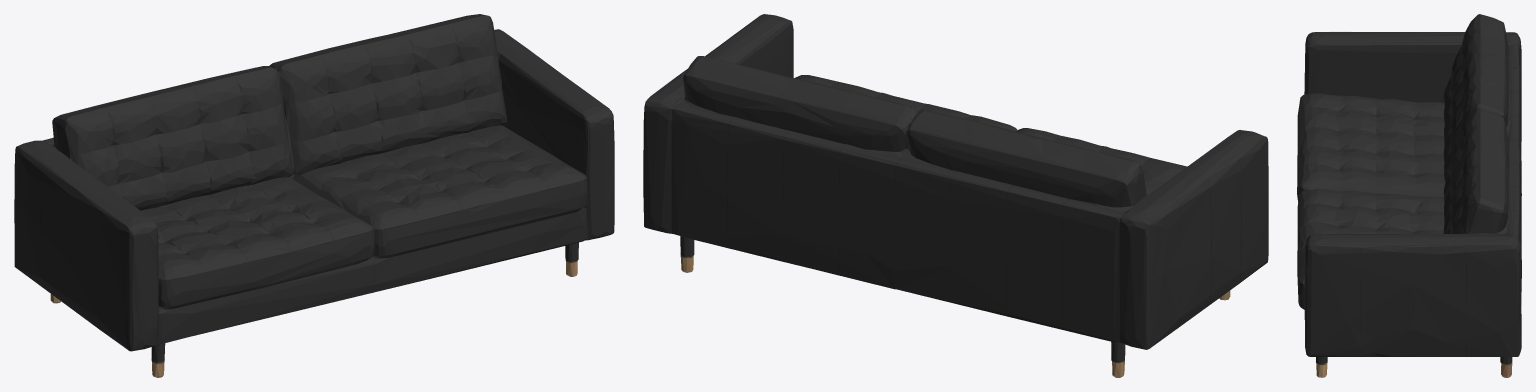
3 renders of one model, left to right at view 1: azimuth 30°, elevation 25°; view 2: azimuth 150°, elevation 25°; view 3: azimuth 270°, elevation 25°, orthographic. The views are drawn at different scales.
Visible parts, largest first — view 1: ProcessedGeometry; view 2: ProcessedGeometry; view 3: ProcessedGeometry.
Boxes of the visible parts, x1,y1,x2,y2 form: ProcessedGeometry: (14, 14, 614, 377); ProcessedGeometry: (643, 14, 1268, 377); ProcessedGeometry: (1297, 14, 1521, 377).
Bounding box in the file's own units: 2.04 × 0.78 × 0.89.
Materials: 2 (2 with a texture image).
